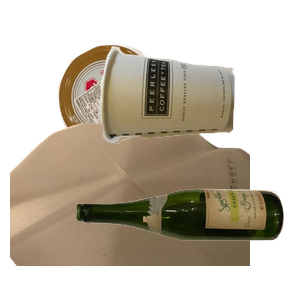glass: (74, 186, 300, 300)
metal: (56, 43, 211, 187)
plastic: (10, 120, 250, 300)
trash: (95, 44, 300, 180)
